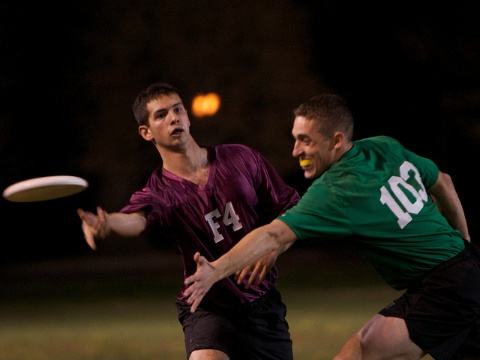hand: (183, 250, 215, 313), (76, 205, 111, 250)
